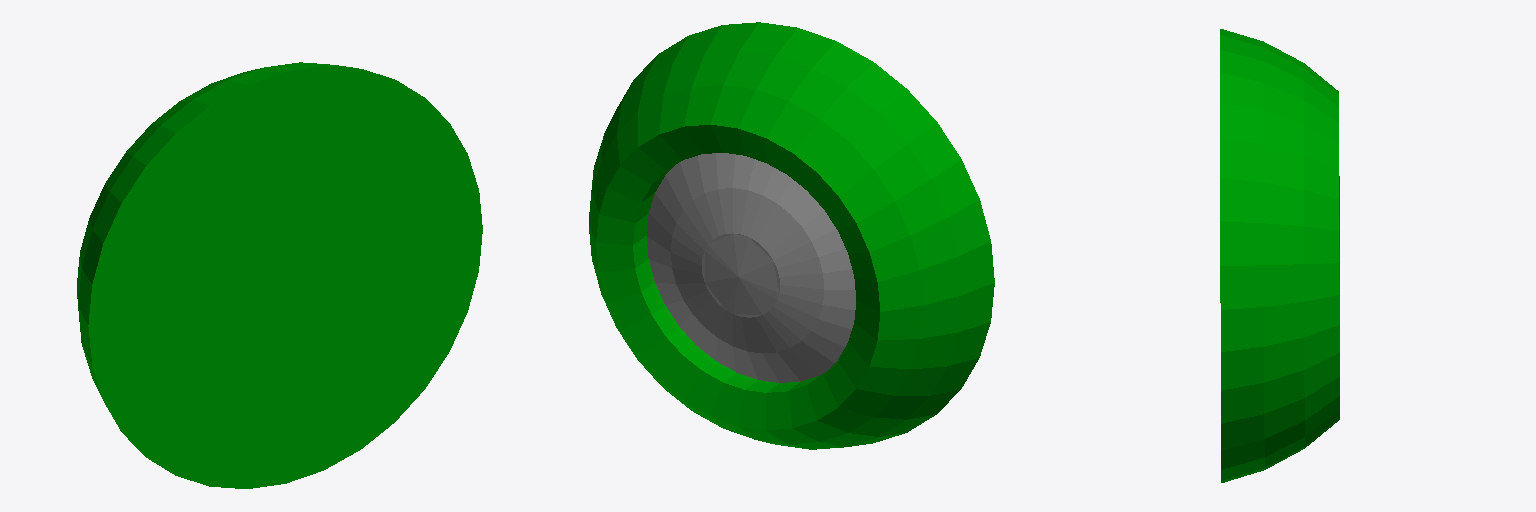
Rendered from note.obj.
3 renders of one model, left to right at view 1: azimuth 30°, elevation 25°; view 2: azimuth 150°, elevation 25°; view 3: azimuth 270°, elevation 25°, orthographic.
Parts seen in each view (by area): view 1: Sphere; view 2: Sphere; view 3: Sphere.
Boxes of the visible parts, <box> form: Sphere: <box>77,62,482,488</box>; Sphere: <box>589,22,994,449</box>; Sphere: <box>1220,29,1339,482</box>.
Size of the model in its own units: 0.6865 by 0.6865 by 0.1807.